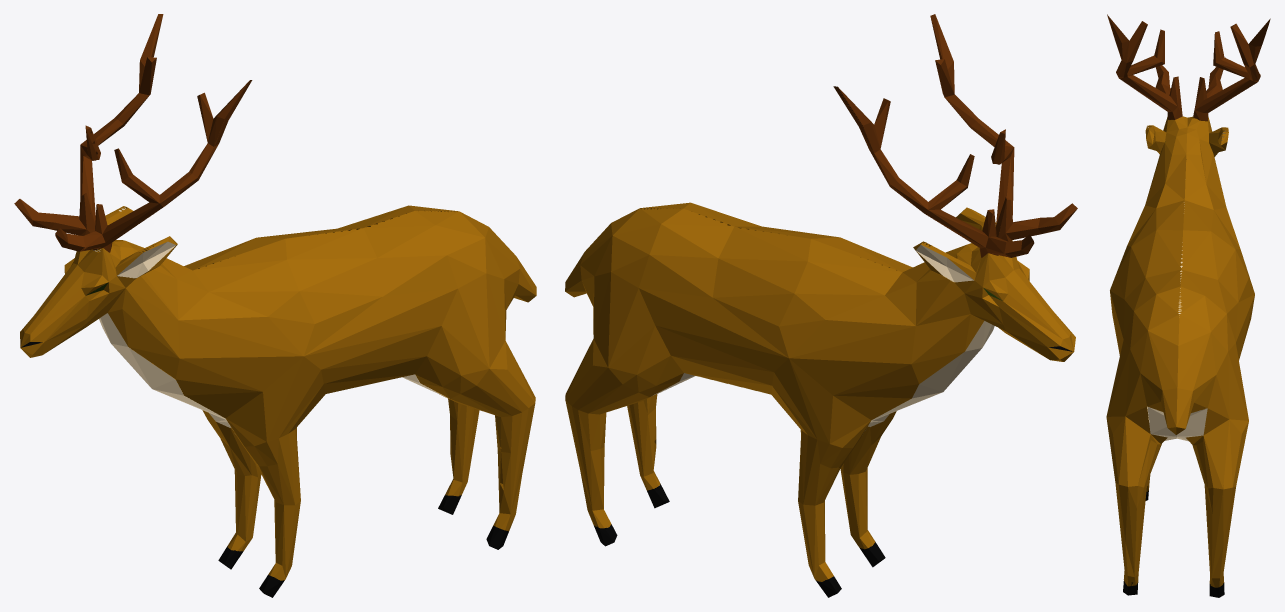
File: Deer1.FBX
3 views of the same model, side by side, from view 1: azimuth 30°, elevation 25°; view 2: azimuth 150°, elevation 25°; view 3: azimuth 270°, elevation 25° (orthographic). The views are drawn at different scales.
Visible parts, largest first — view 1: Group50791; view 2: Group50791; view 3: Group50791.
Part boxes in pixels (box(x1,y1,x2,y2)): Group50791: box(14, 14, 536, 597); Group50791: box(565, 14, 1077, 597); Group50791: box(1106, 14, 1270, 597).
Bounding box in the file's own units: 92.03 × 93.7 × 29.49.
